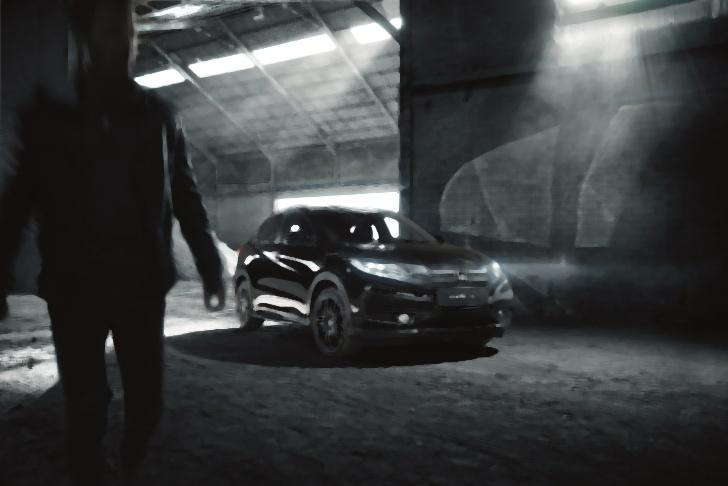Car hood: (341, 242, 495, 270)
Driver-s door - -F-R-: (269, 192, 319, 330)
Fender - -F-R-: (308, 251, 366, 329)
Front bumper: (345, 283, 521, 341)
Headlight - -L-: (483, 257, 504, 283)
Headlight - -R-: (343, 255, 429, 286)
Passenger-s door - -R-R-: (250, 202, 289, 323)
Side bumper - -R-: (245, 297, 314, 335)
Side mirror - -R-: (284, 230, 317, 255)
